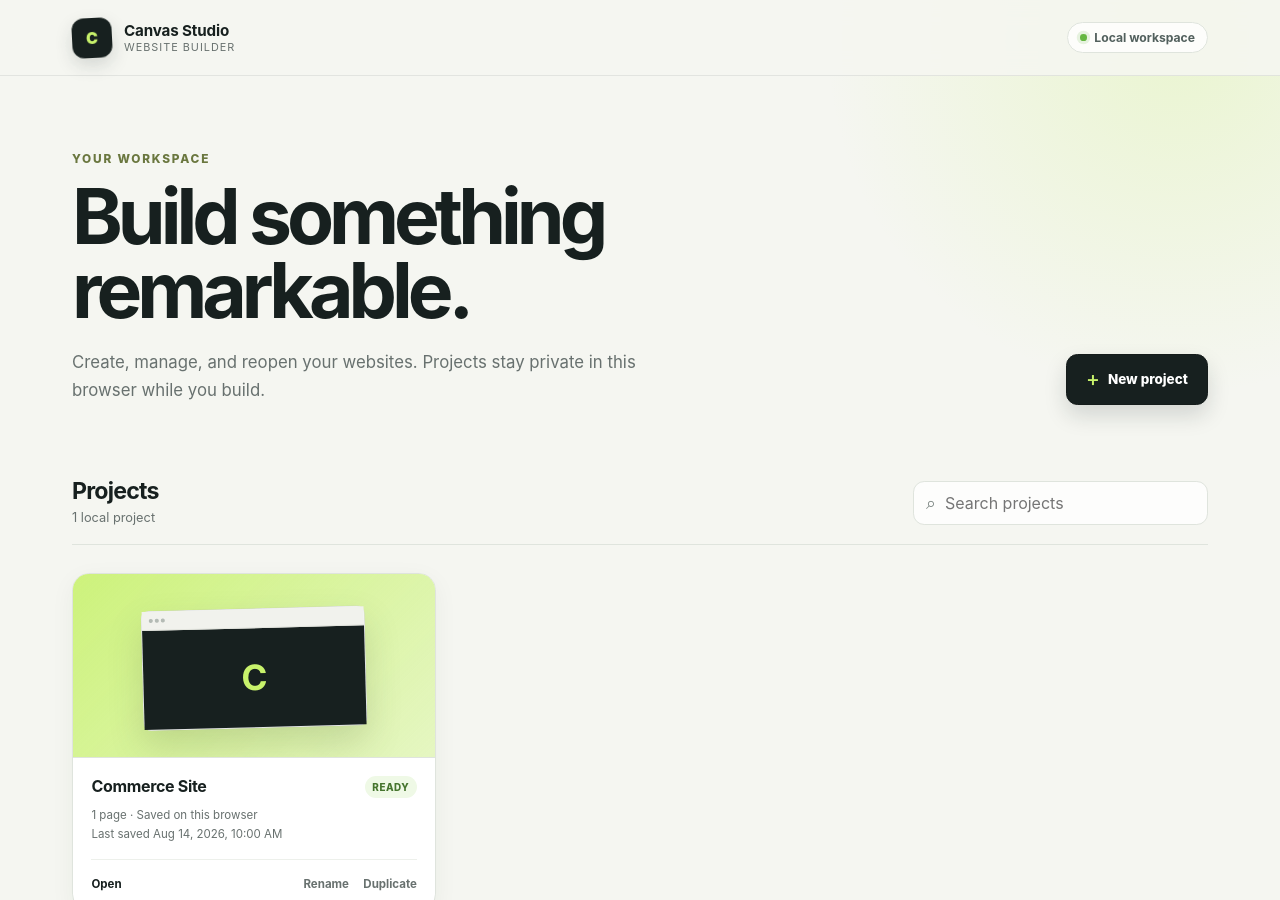
ProjectDashboard › should restore focus after a successful keyboard rename
This screenshot has width=1280, height=900.
Step 1. Click the button "Rename" → (326, 884), box [303,874,349,894]
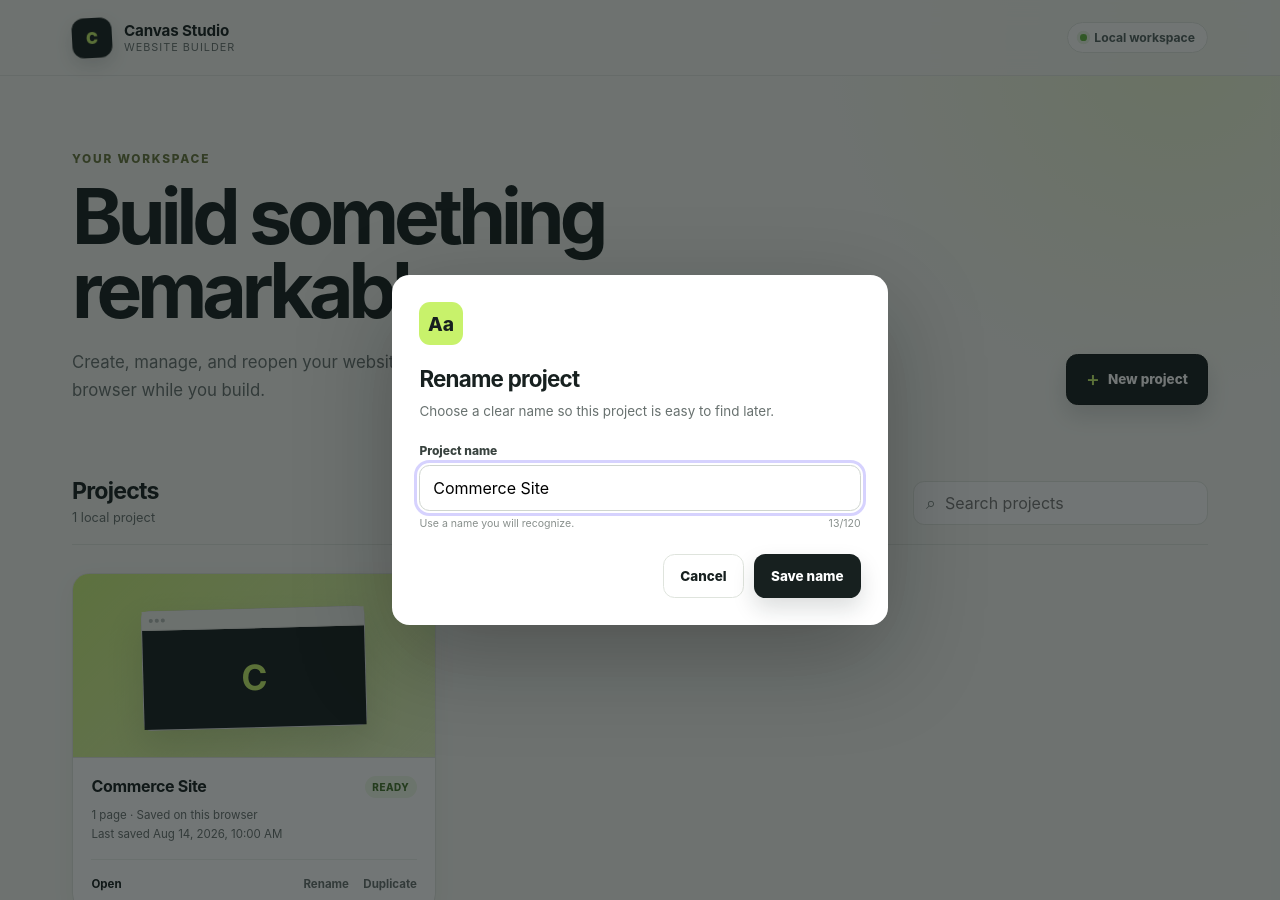
Step 2. Replace the text in the field labelled "Project name" with "Renamed Store" → (640, 488), box [419,465,861,511]
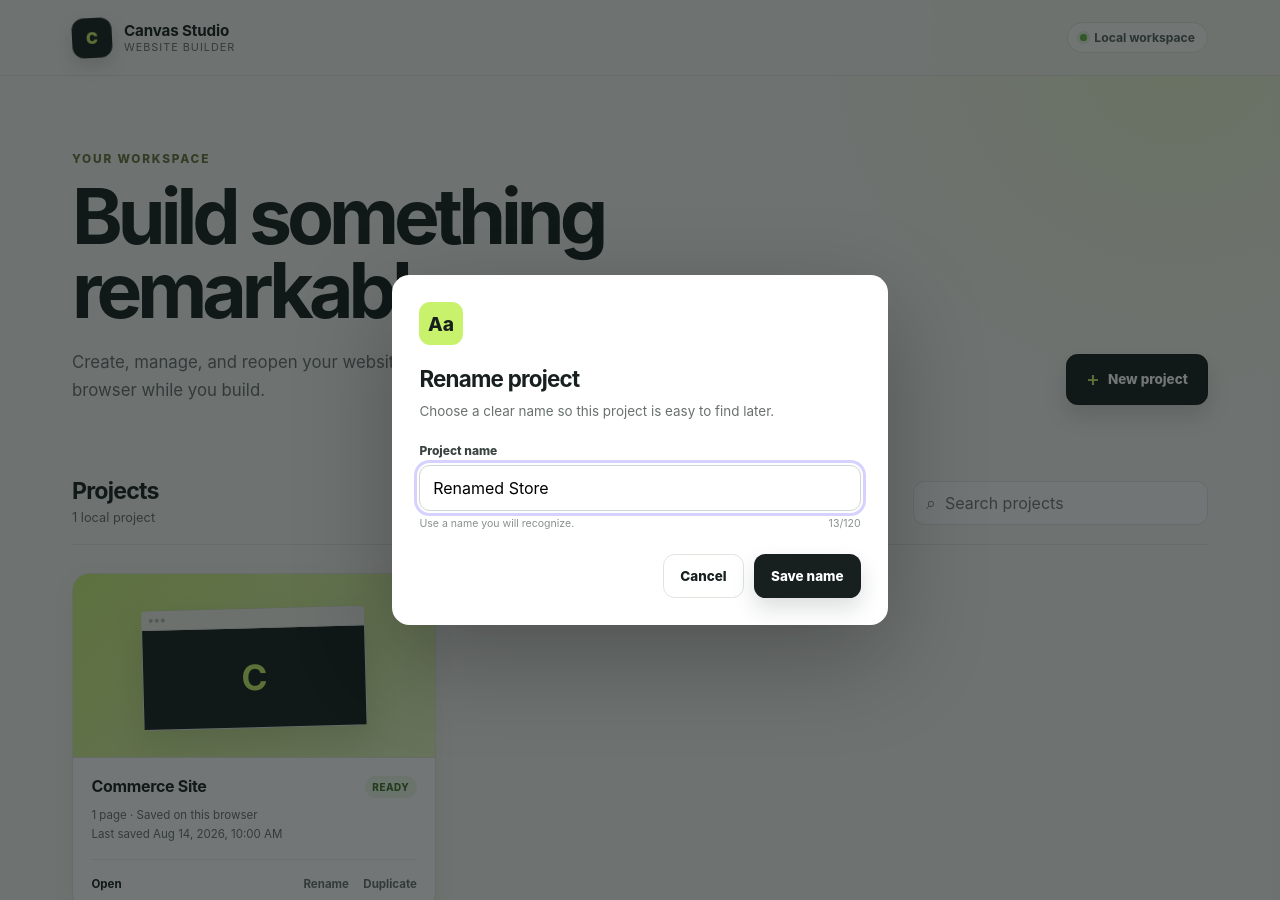
Step 3. Click the button "Save name" → (807, 576), box [754,554,861,598]
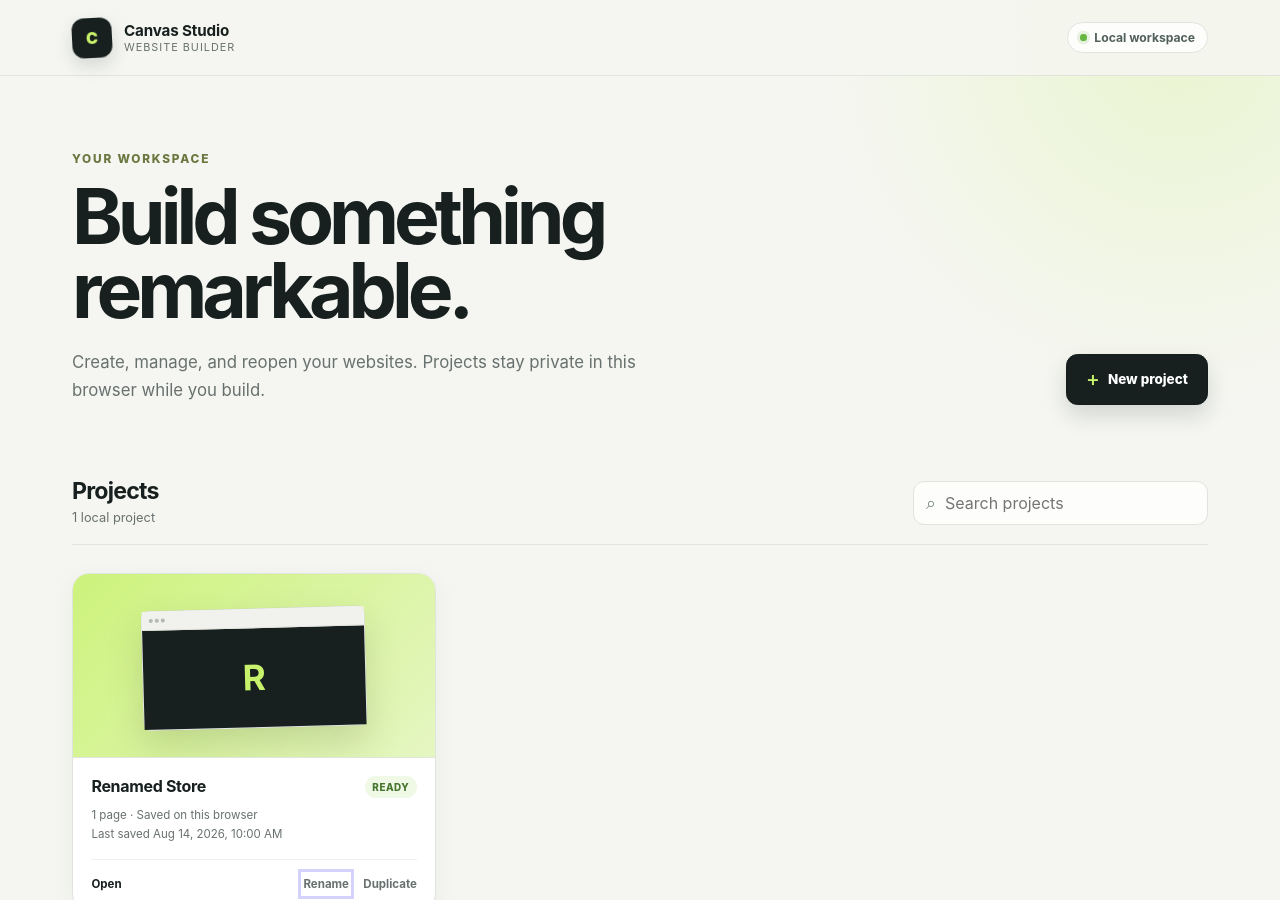
Check: the dialog is gone
Check: the heading "Renamed Store" is shown, box [91,776,206,796]
